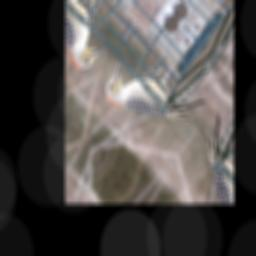Woodpecker: (96, 29, 210, 164)
